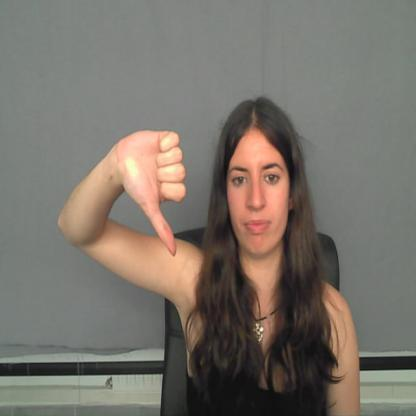thumbs-down: (119, 119, 189, 254)
